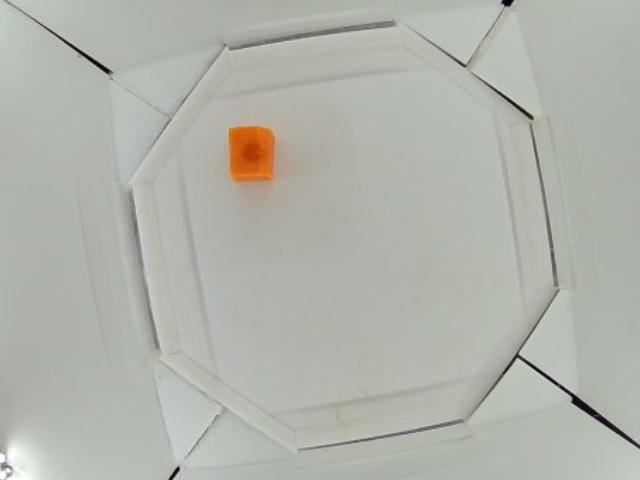Carrot: (228, 125, 278, 183)
